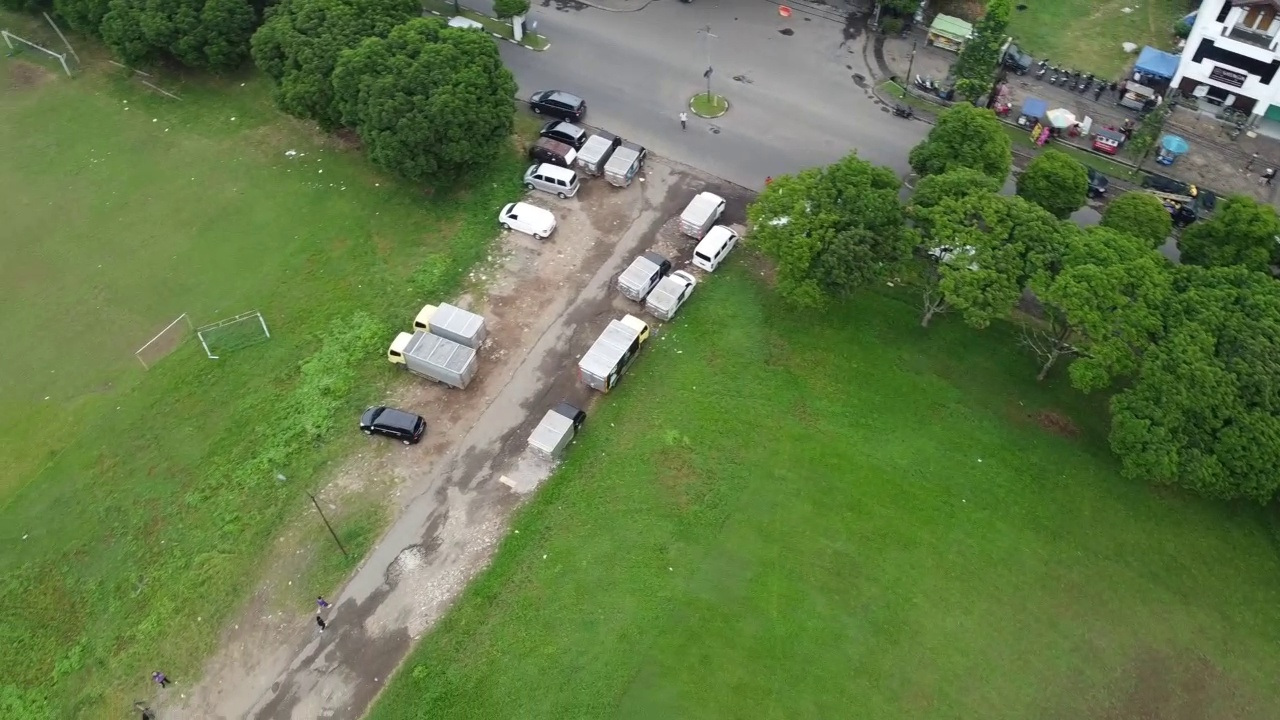mobil: (360, 402, 429, 449), (689, 219, 741, 272), (528, 81, 592, 124), (522, 161, 587, 197), (503, 200, 558, 241), (540, 112, 587, 147), (531, 135, 574, 166)
